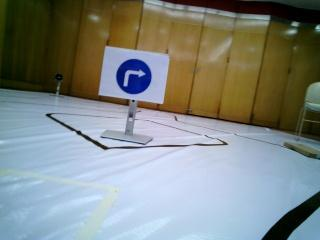right: (100, 48, 161, 101)
